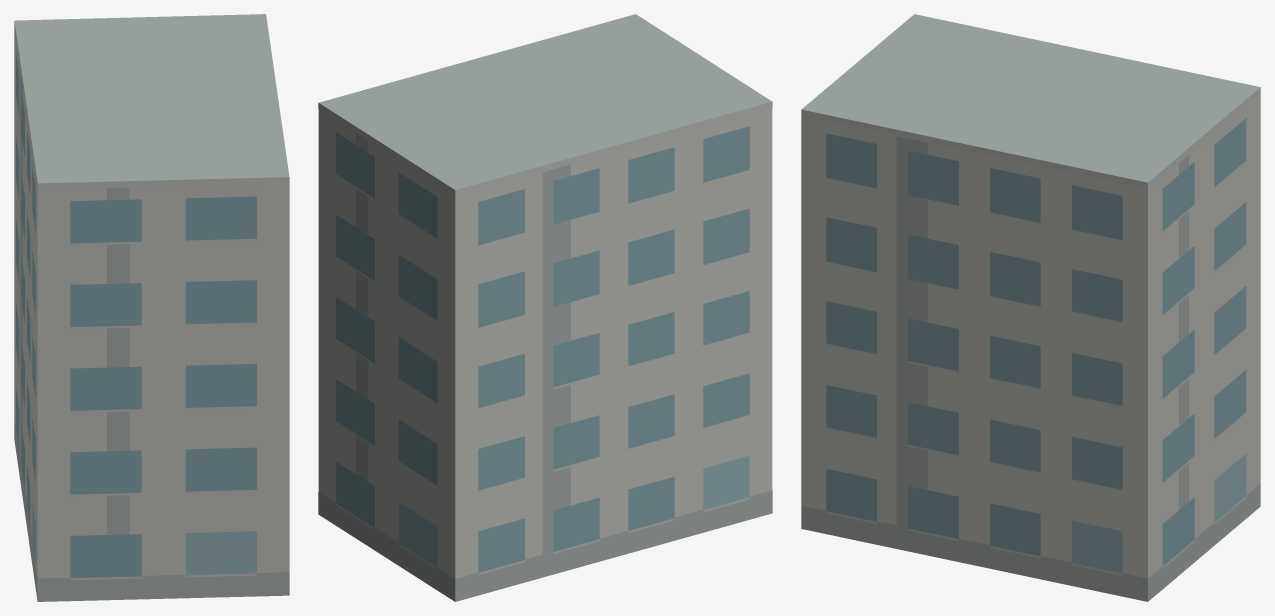
File: residential-556a31e5-292e-4fe2-979d-ddee05e39633.glb
3 views of the same model, side by side, from view 1: azimuth 30°, elevation 25°; view 2: azimuth 150°, elevation 25°; view 3: azimuth 270°, elevation 25° (orthographic).
Visible parts, largest first — view 1: residential-556a31e5-292e-4fe2-979d-ddee05e39633.tmp; view 2: residential-556a31e5-292e-4fe2-979d-ddee05e39633.tmp; view 3: residential-556a31e5-292e-4fe2-979d-ddee05e39633.tmp.
Boxes of the visible parts, <box> form: residential-556a31e5-292e-4fe2-979d-ddee05e39633.tmp: <box>14,14,289,601</box>; residential-556a31e5-292e-4fe2-979d-ddee05e39633.tmp: <box>318,14,772,601</box>; residential-556a31e5-292e-4fe2-979d-ddee05e39633.tmp: <box>801,14,1260,601</box>.
Bounding box in the file's own units: 13.16 × 15.25 × 15.15.
